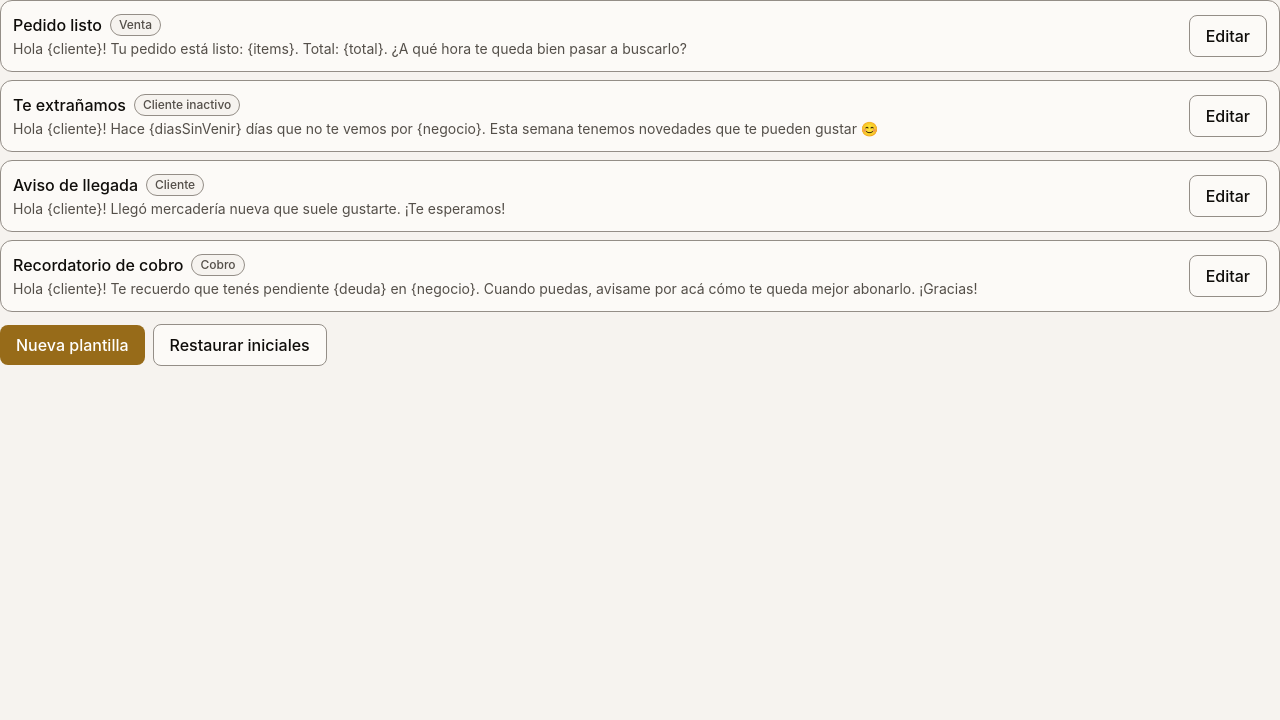
Test: SeccionPlantillasWhatsApp › con plantillas › "Restaurar texto original" repone el borrador del modal sin guardar todavía
The image size is (1280, 720).
Click the button "Editar" in the row of "Pedido listo" at (1228, 36), box [1189,15,1267,57]
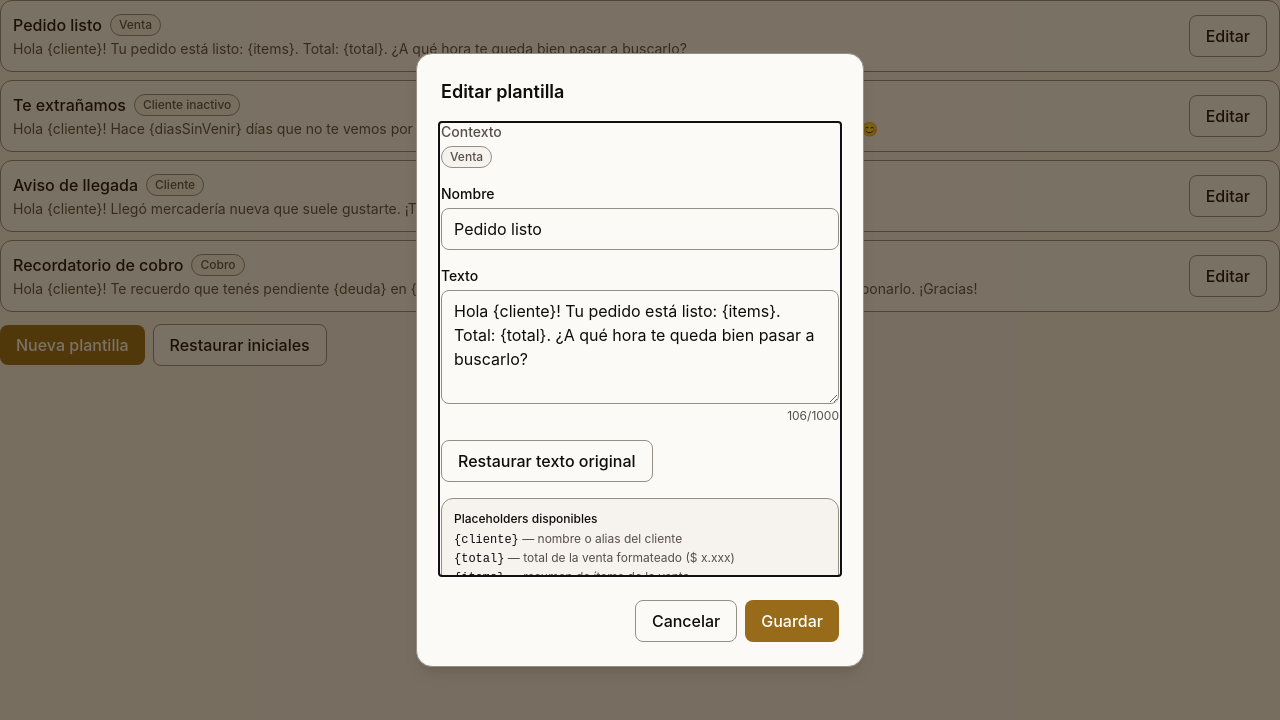
Replace the text in the field labelled "Nombre" with "Roto" at (640, 229), box [441,208,839,250]
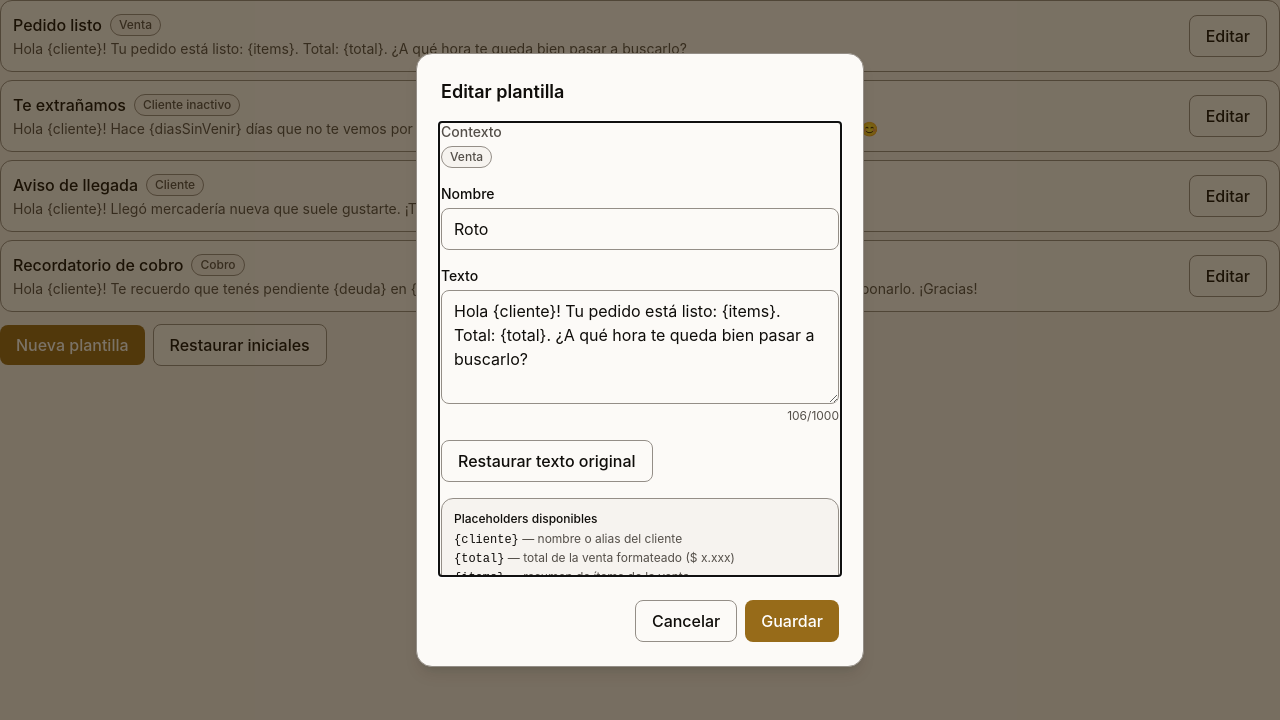
Click the button "Restaurar texto original" at (547, 461), box [441,440,652,482]
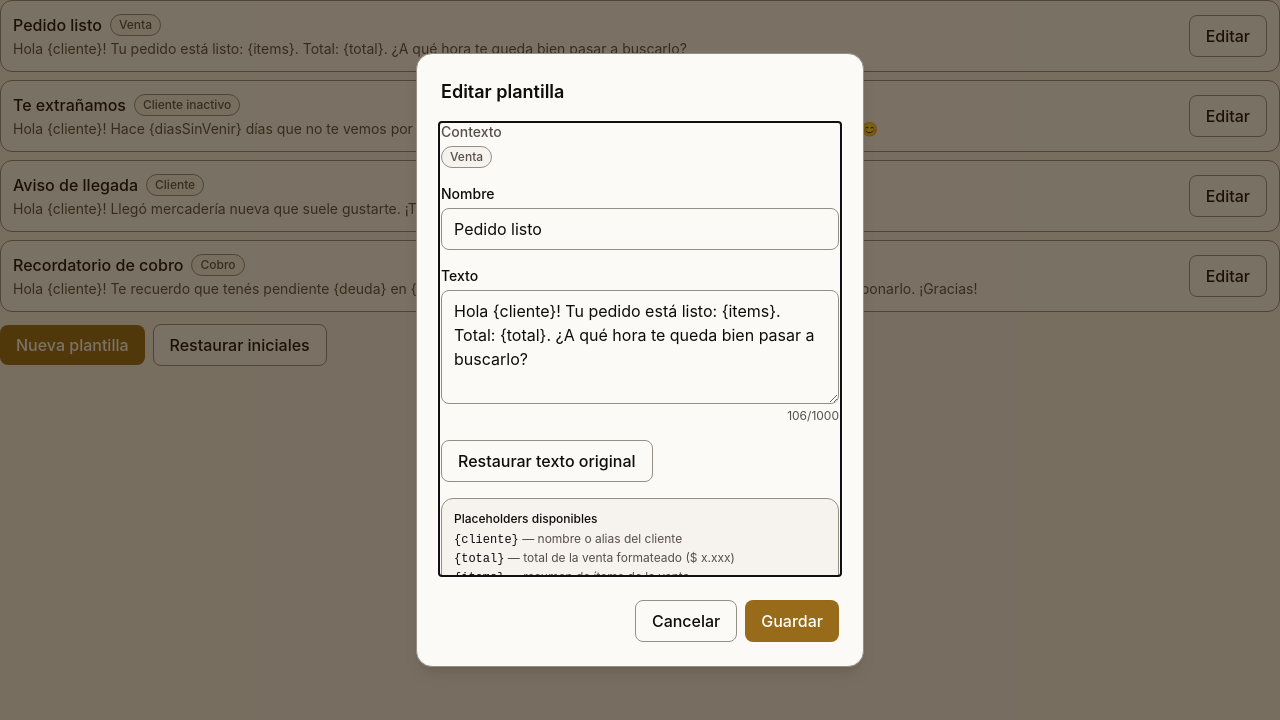
expect the field labelled "Nombre" holds "Pedido listo": met, box [441,208,839,250]
